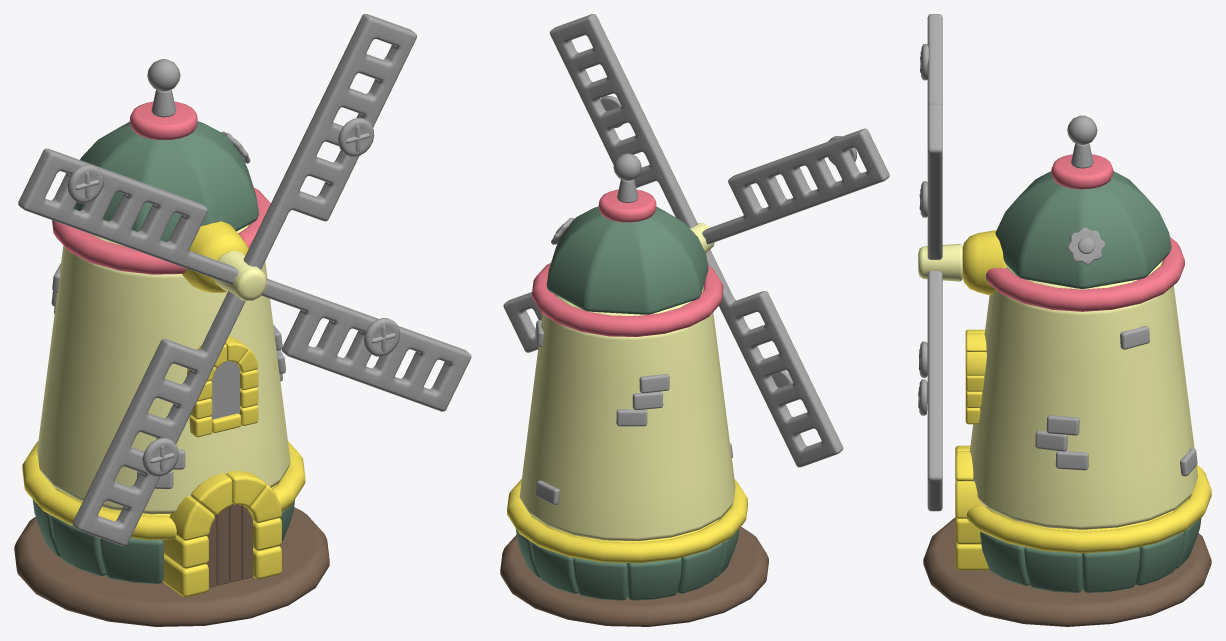
The model's file is Windmill.fbx.
3 views of the same model, side by side, from view 1: azimuth 30°, elevation 25°; view 2: azimuth 150°, elevation 25°; view 3: azimuth 270°, elevation 25° (orthographic). The views are drawn at different scales.
Parts seen in each view (by area): view 1: S_Windmill_31, M_Windmill_20, S_Windmill_4, S_Windmill_2, M_Windmill_2, S_Windmill_3, S_Windmill_1, S_Windmill_29, S_Windmill_27, S_Windmill_26, M_Windmill_9, M_Windmill_3 (+17 smaller); view 2: S_Windmill_31, M_Windmill_2, M_Windmill_20, S_Windmill_4, S_Windmill_3, S_Windmill_2, S_Windmill_29, S_Windmill_27, M_Windmill_6, M_Windmill_5, M_Windmill_7, M_Windmill_14 (+4 smaller); view 3: S_Windmill_31, M_Windmill_2, M_Windmill_20, S_Windmill_29, S_Windmill_27, S_Windmill_1, S_Windmill_2, M_Windmill_11, M_Windmill_12, M_Windmill_3, M_Windmill_10, M_Windmill_13 (+17 smaller).
Part boxes in pixels (x1,y1,x2,y2): S_Windmill_31: (37, 246, 290, 514); M_Windmill_20: (14, 507, 329, 626); S_Windmill_4: (72, 291, 245, 546); S_Windmill_2: (243, 14, 416, 269); M_Windmill_2: (74, 121, 258, 241); S_Windmill_3: (18, 148, 238, 284); S_Windmill_1: (261, 278, 471, 411); S_Windmill_29: (22, 441, 305, 540); S_Windmill_27: (52, 187, 270, 274); S_Windmill_26: (206, 504, 253, 587); M_Windmill_9: (100, 538, 163, 583); M_Windmill_3: (182, 221, 248, 292); S_Windmill_31: (519, 312, 735, 541); M_Windmill_2: (546, 206, 708, 314); M_Windmill_20: (500, 526, 768, 626); S_Windmill_4: (706, 249, 843, 467); S_Windmill_3: (702, 128, 889, 244); S_Windmill_2: (549, 14, 697, 227); S_Windmill_29: (507, 479, 747, 563); S_Windmill_27: (532, 263, 723, 336); M_Windmill_6: (627, 558, 681, 600); M_Windmill_5: (573, 558, 627, 600); M_Windmill_7: (677, 542, 723, 593); M_Windmill_14: (531, 542, 577, 593); S_Windmill_31: (969, 285, 1197, 529); M_Windmill_2: (995, 171, 1171, 288); M_Windmill_20: (923, 517, 1211, 626); S_Windmill_29: (967, 465, 1211, 553); S_Windmill_27: (986, 237, 1184, 311); S_Windmill_1: (927, 270, 942, 511); S_Windmill_2: (927, 103, 942, 259); M_Windmill_11: (1024, 547, 1082, 592); M_Windmill_12: (1082, 547, 1140, 592); M_Windmill_3: (962, 230, 1006, 295); M_Windmill_10: (980, 531, 1029, 585); M_Windmill_13: (1135, 532, 1184, 585).
Size of the model in its own units: 359 by 437 by 224.
